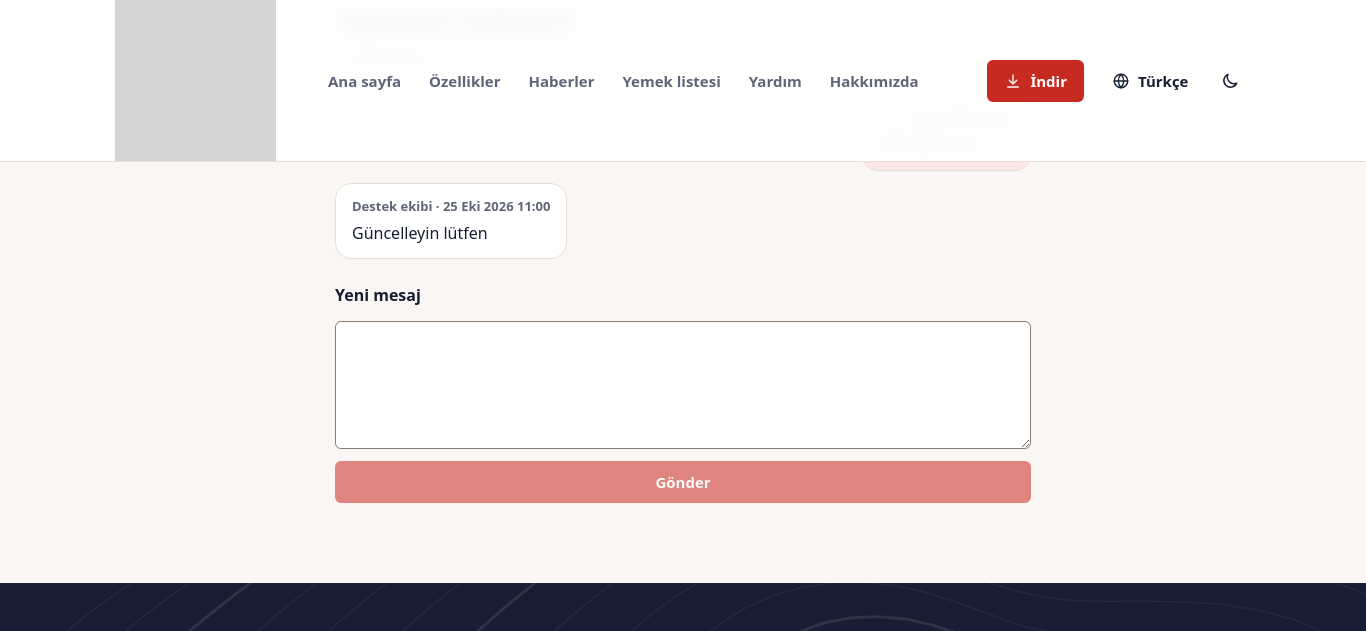
talep durum sayfası › konuşmayı gösterir, yeni mesajı gönderir
The width and height of the screenshot is (1366, 631).
(page scrolled)
Check: the text "Güncelleyin lütfen" is shown, box 352,222 -> 488,244
Type "Teşekkürler" into the text box labelled "Yeni mesaj" at (683, 385), box 335,321 -> 1031,449
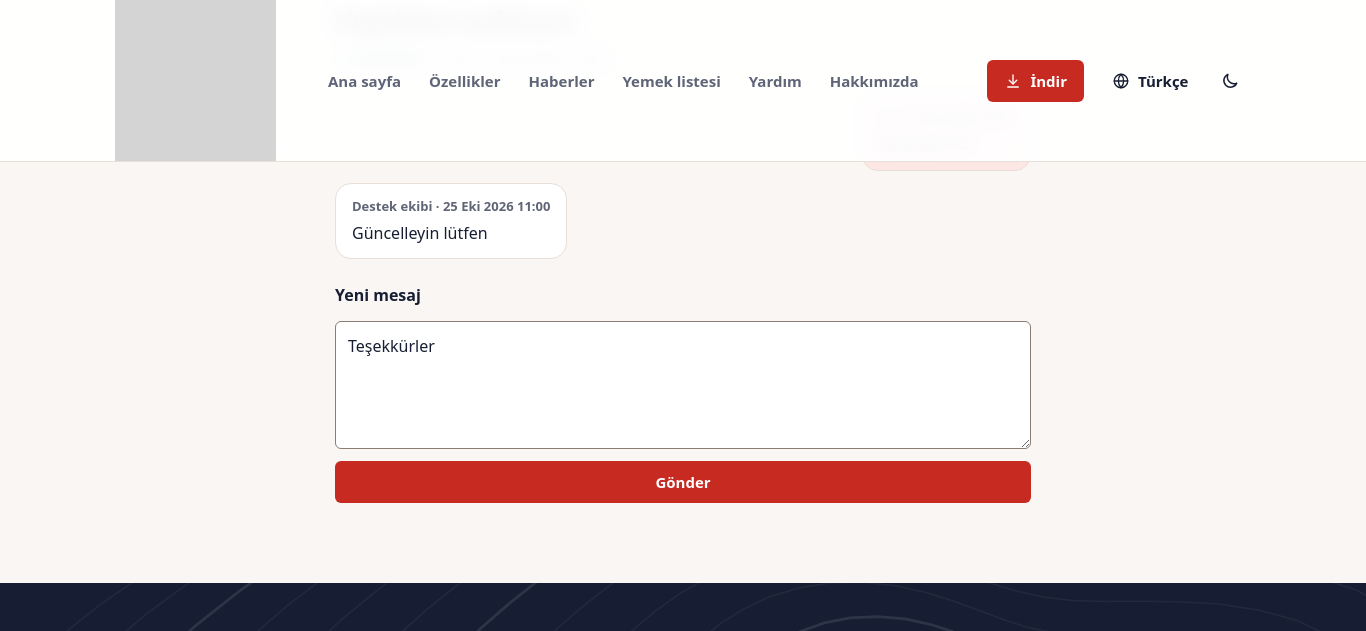
Click the button "Gönder" at (683, 482), box 335,461 -> 1031,503
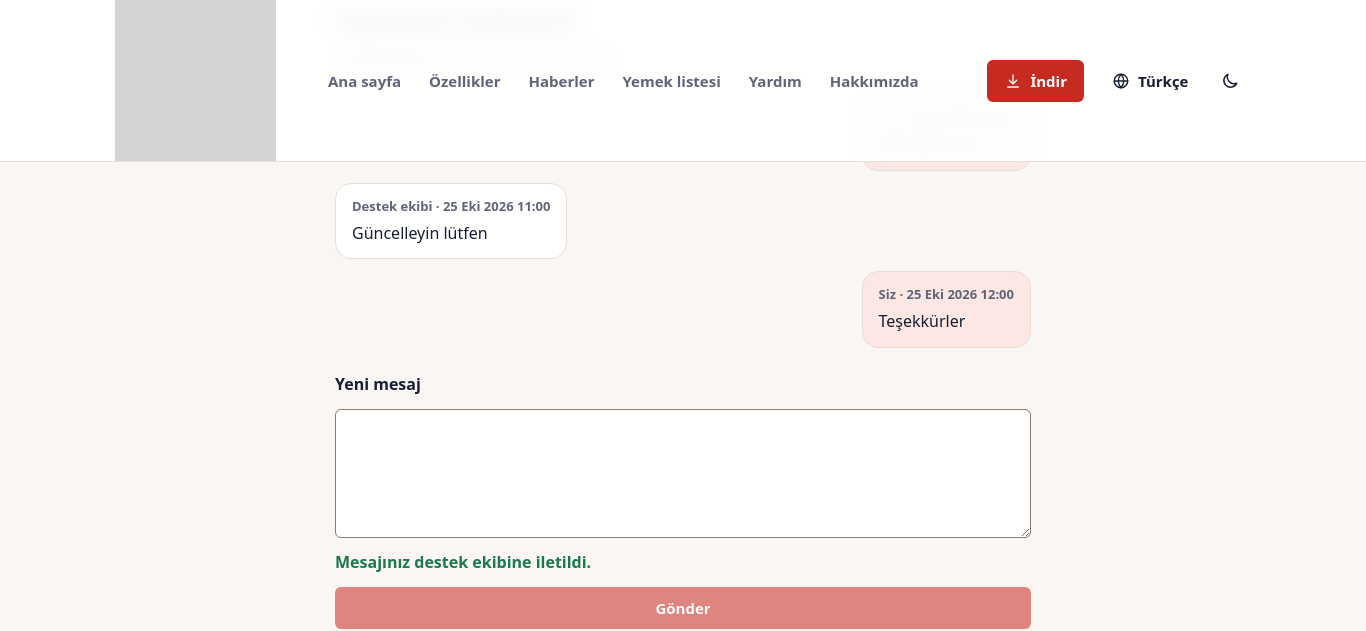
Check: the text "Teşekkürler" is shown, box 878,310 -> 965,332
